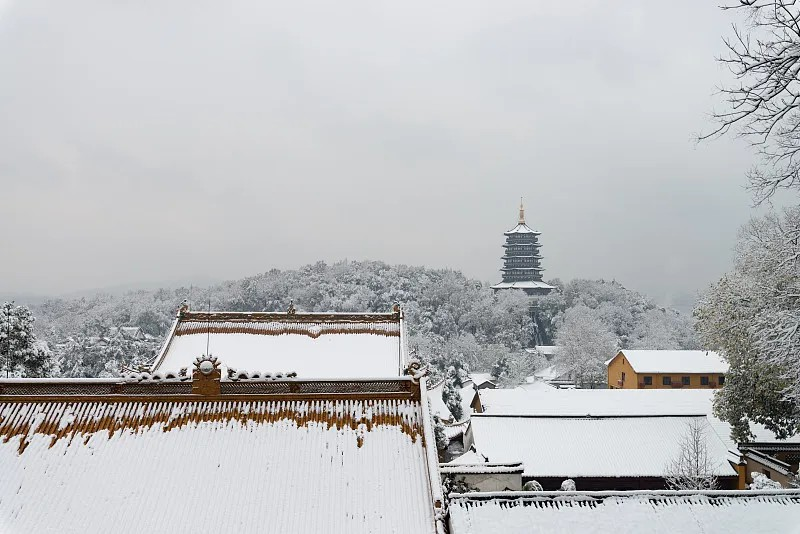Leifeng: (492, 195, 554, 298)
